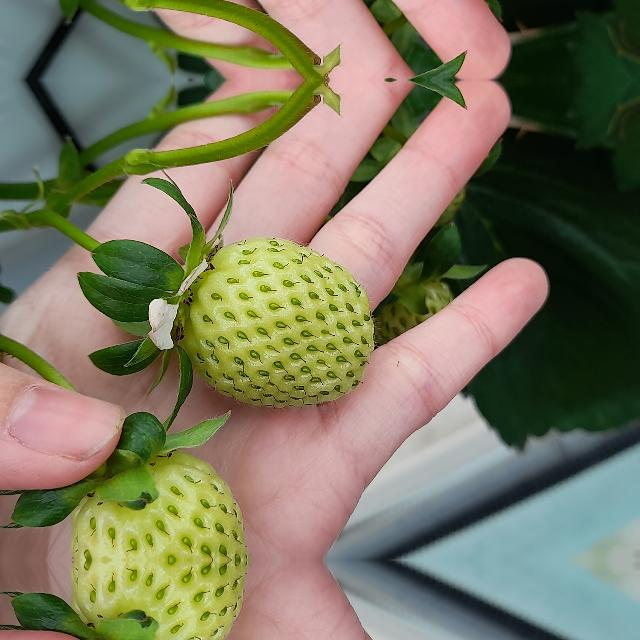Health_25: (180, 237, 374, 408), (68, 444, 248, 560), (68, 560, 248, 640)
